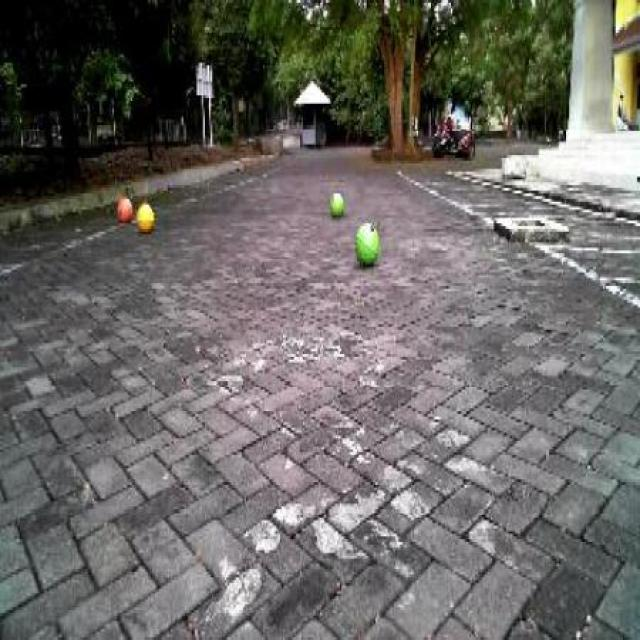buoy: (351, 212, 381, 270), (134, 197, 154, 235), (327, 185, 347, 220), (114, 192, 132, 225)
